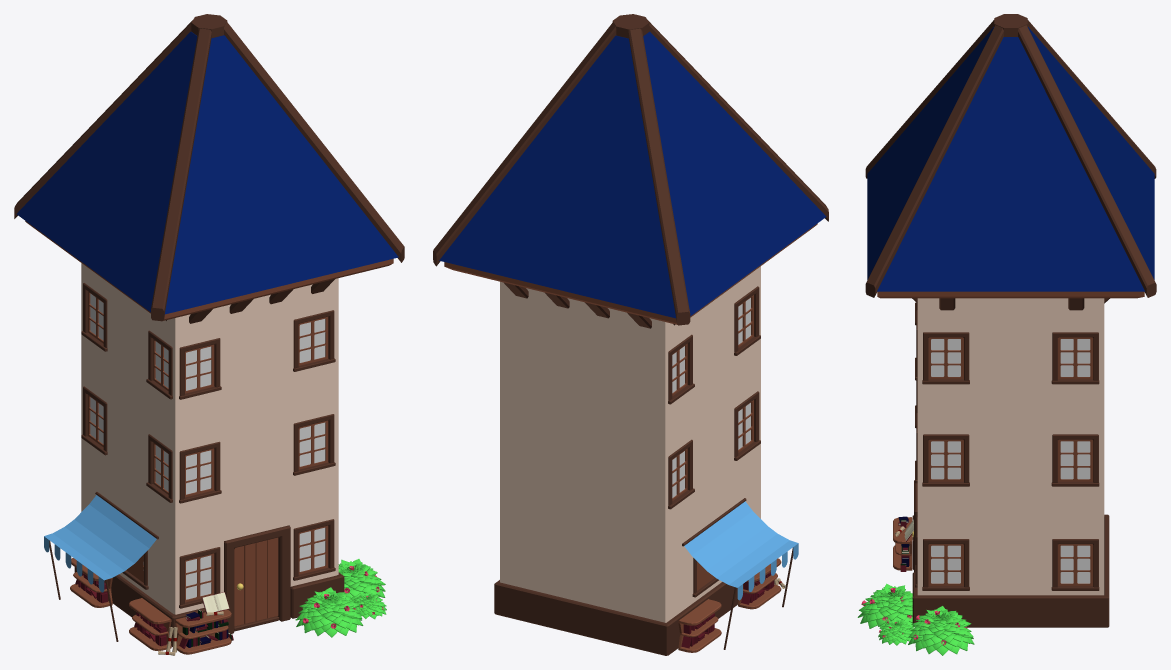
The model's file is MagicShop_Upgrade_1.fbx.
3 renders of one model, left to right at view 1: azimuth 30°, elevation 25°; view 2: azimuth 150°, elevation 25°; view 3: azimuth 270°, elevation 25°, orthographic. The views are drawn at different scales.
Parts seen in each view (by area): view 1: Shop; view 2: Shop; view 3: Shop.
Part boxes in pixels (x1,y1,x2,y2): Shop: (14,14,404,655); Shop: (433,14,828,655); Shop: (857,14,1156,655).
Size of the model in its own units: 806 by 1620 by 770.
